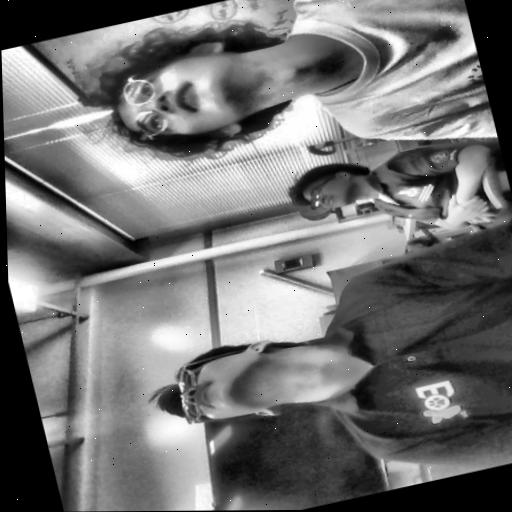Daifuku: (75, 6, 310, 173)
Not Daifuku: (150, 327, 319, 437), (288, 162, 376, 223)
